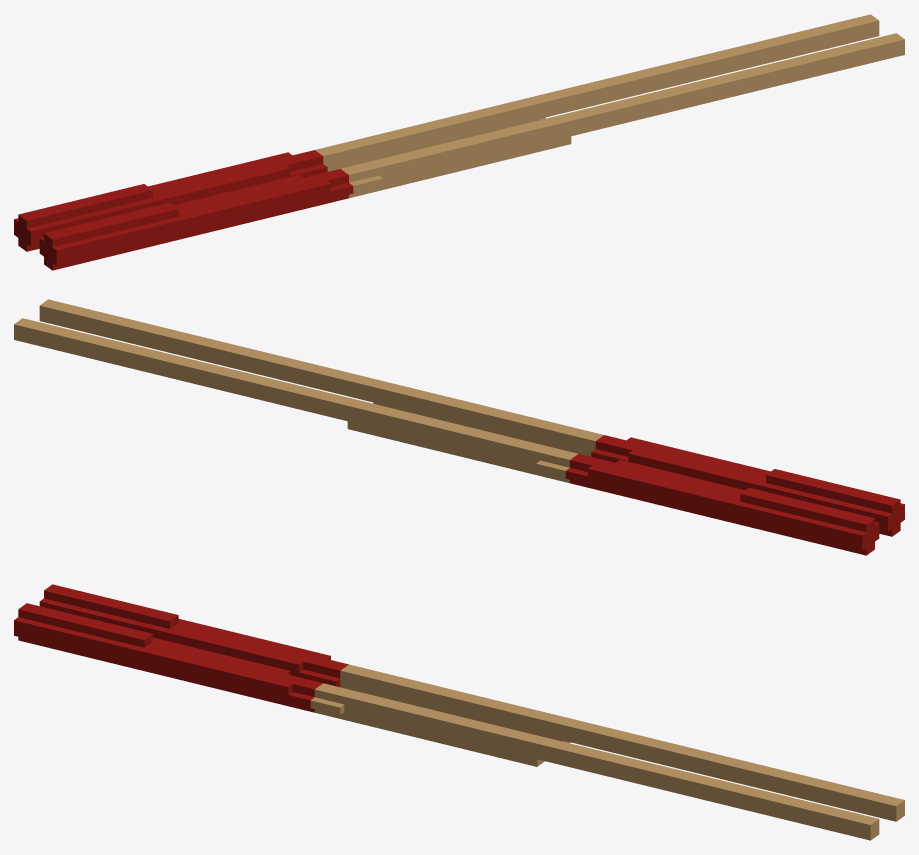
The model's file is chopsticks.glb.
The picture shows the model from 3 angles, top to bottom: view 1: azimuth 30°, elevation 25°; view 2: azimuth 150°, elevation 25°; view 3: azimuth 330°, elevation 25°; orthographic projection.
Visible parts, largest first — view 1: chopsticks:compound; view 2: chopsticks:compound; view 3: chopsticks:compound.
Boxes of the visible parts, x1,y1,x2,y2 form: chopsticks:compound: (14, 14, 904, 270); chopsticks:compound: (14, 299, 904, 555); chopsticks:compound: (14, 584, 904, 840).
Bounding box in the file's own units: 0.23 × 0.008 × 0.02.
